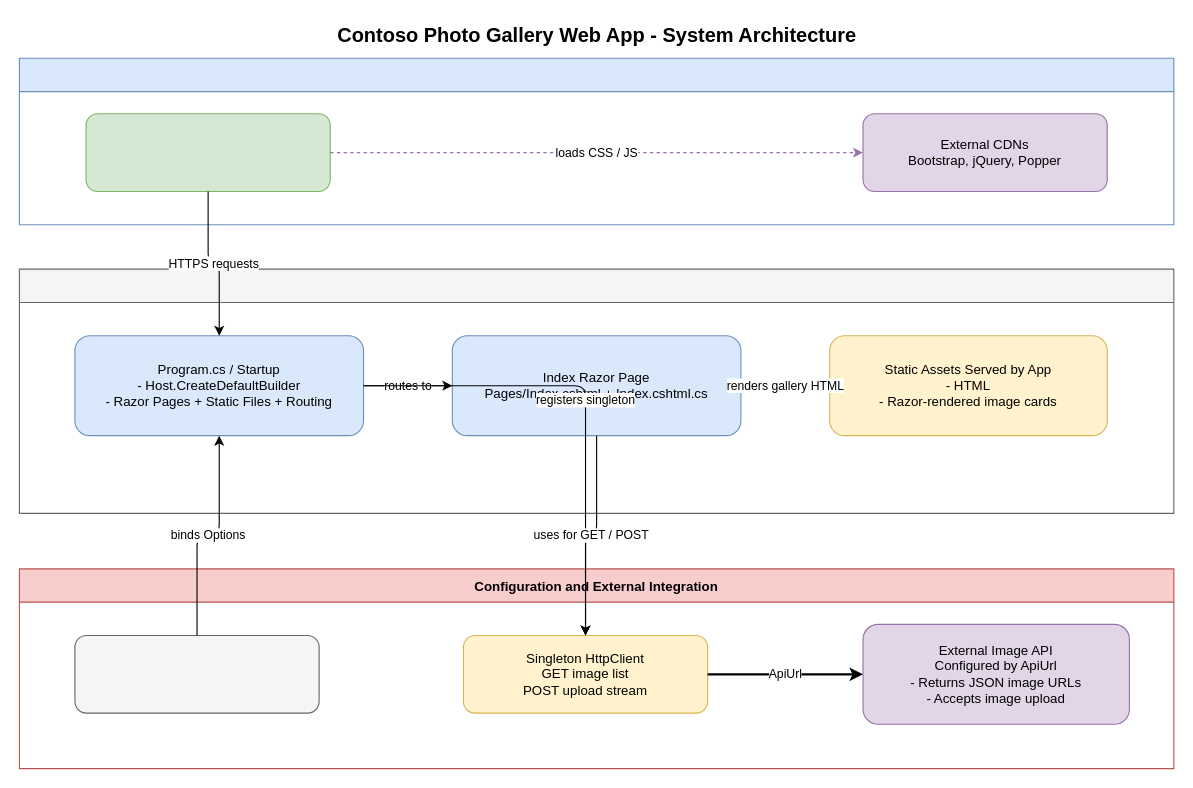
The diagram is 1193 pixels wide and 788 high, and some of its shapes have lost their labels. The box of each missing label's shape, as (x1, y1, x2, y2) in pixels:
appsettings.json + Options.cs ApiUrl: (74, 634, 319, 713)
ASP.NET Core Web App: (18, 268, 1174, 513)
Client Layer: (18, 57, 1174, 225)
User Browser - Renders gallery UI - Submits image uploads: (85, 113, 330, 191)
